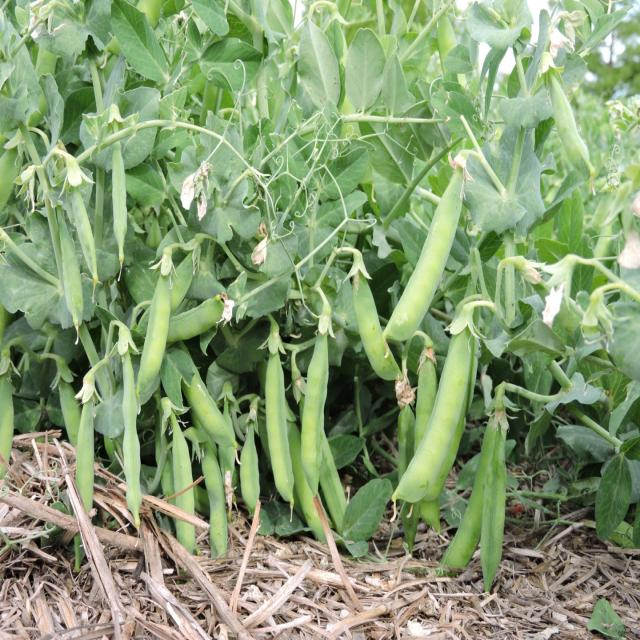aguacate: (392, 157, 467, 353)
